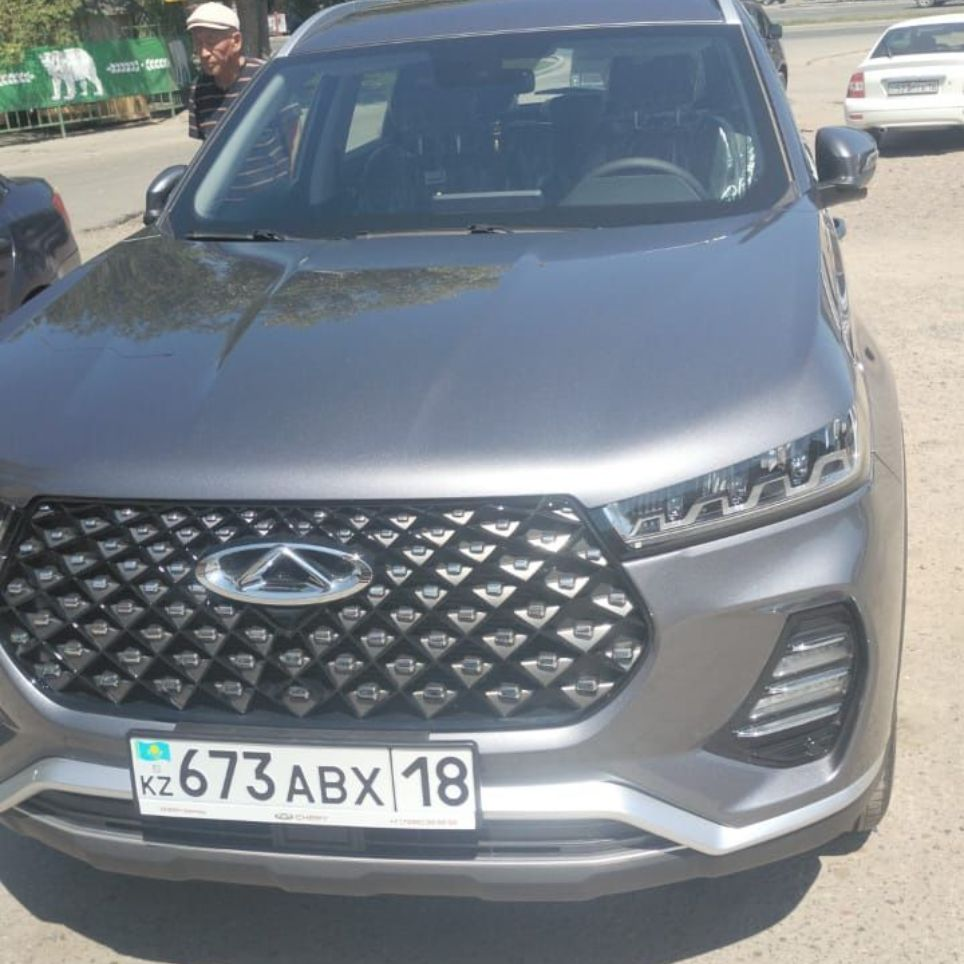license plate: (124, 735, 478, 836)
truck: (12, 26, 889, 901)
